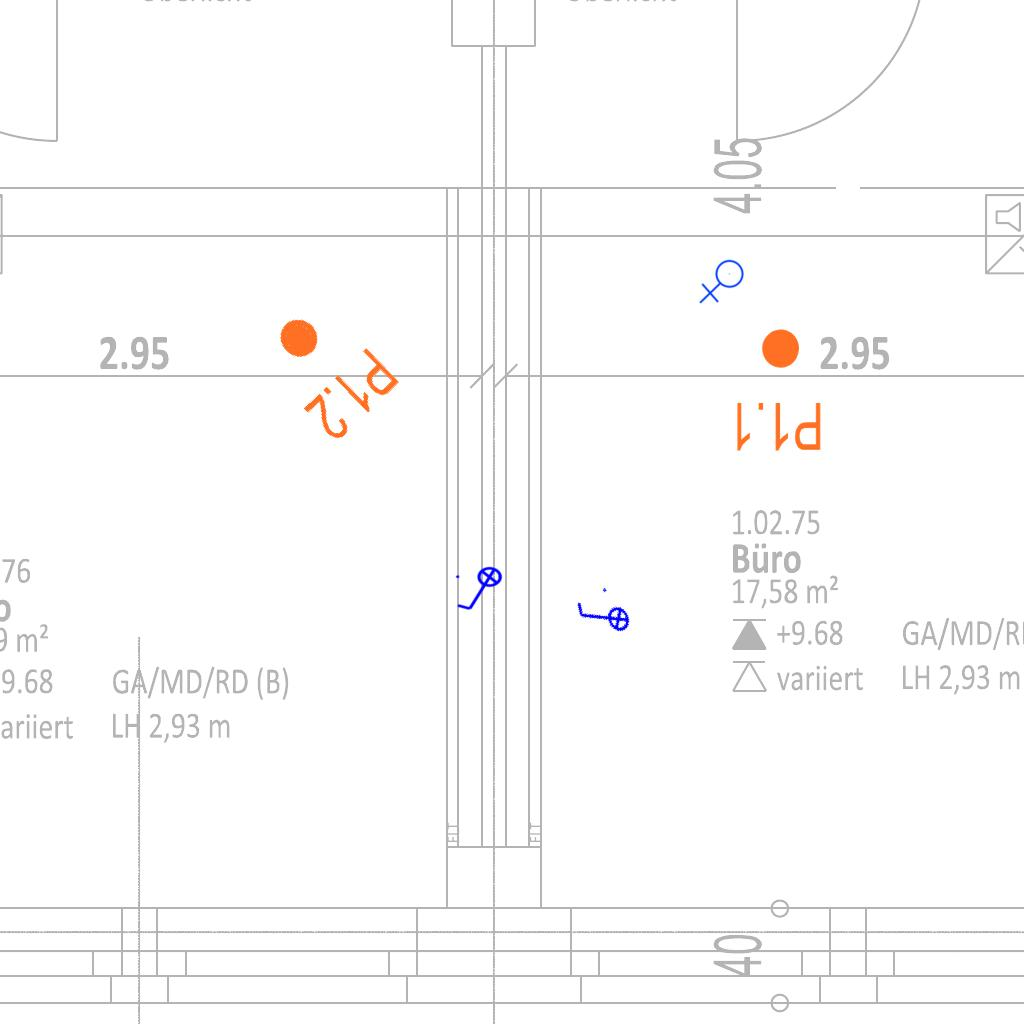Ausschalter_beleuchtet: (569, 581, 637, 653), (453, 566, 509, 614)
Downlight_LED_Einbauleuchten_Flur: (248, 290, 405, 448), (731, 326, 824, 454)
Elektroanschluss_allgemein_230V_Geraeteanschlussdose_230V: (699, 259, 748, 306)
